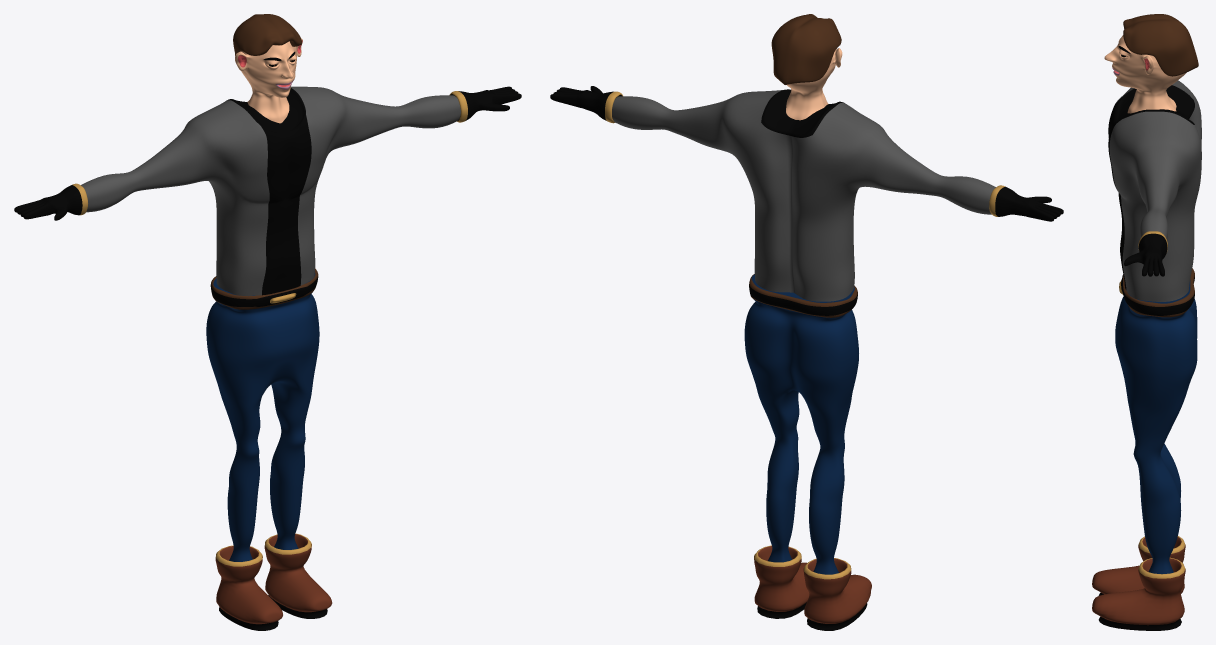
File: personaje2publicoggj.fbx
The picture shows the model from 3 angles, left to right: view 1: azimuth 30°, elevation 25°; view 2: azimuth 150°, elevation 25°; view 3: azimuth 270°, elevation 25°; orthographic projection.
Visible parts, largest first — view 1: Cube.002, Cube, Cube.001, Cube.004, Cube.003, Cube.005; view 2: Cube.002, Cube, Cube.001, Cube.005, Cube.003, Cube.004; view 3: Cube.002, Cube, Cube.001, Cube.005, Cube.004, Cube.003.
Boxes of the visible parts, x1=… form: Cube.002: x1=81, y1=86, x2=460, y2=295; Cube: x1=206, y1=268, x2=319, y2=561; Cube.001: x1=215, y1=533, x2=332, y2=630; Cube.004: x1=235, y1=38, x2=302, y2=123; Cube.003: x1=14, y1=86, x2=521, y2=220; Cube.005: x1=233, y1=14, x2=301, y2=55; Cube.002: x1=612, y1=89, x2=995, y2=301; Cube: x1=744, y1=274, x2=858, y2=574; Cube.001: x1=754, y1=545, x2=871, y2=630; Cube.005: x1=771, y1=14, x2=841, y2=84; Cube.003: x1=550, y1=86, x2=1063, y2=221; Cube.004: x1=786, y1=48, x2=842, y2=120; Cube.002: x1=1108, y1=80, x2=1201, y2=301; Cube: x1=1115, y1=268, x2=1197, y2=574; Cube.001: x1=1092, y1=536, x2=1185, y2=630; Cube.005: x1=1123, y1=14, x2=1198, y2=76; Cube.004: x1=1104, y1=35, x2=1186, y2=113; Cube.003: x1=1124, y1=231, x2=1167, y2=276.
Size of the model in its own units: 1272 by 1434 by 241.
